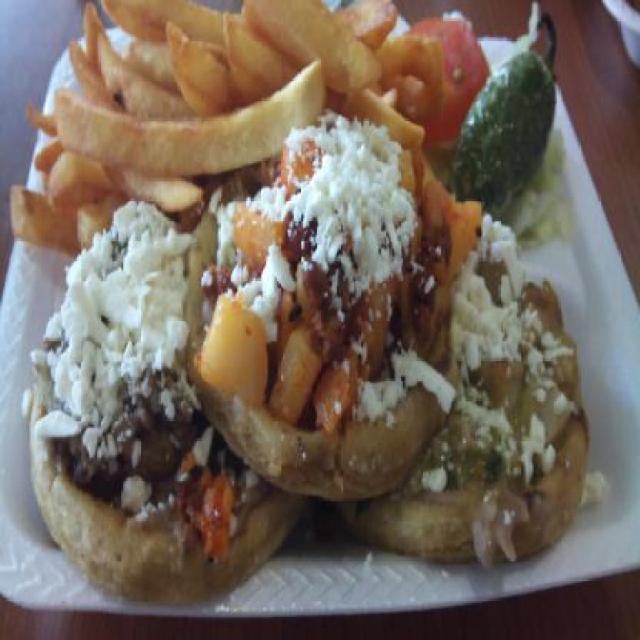Potato: (10, 0, 481, 280)
